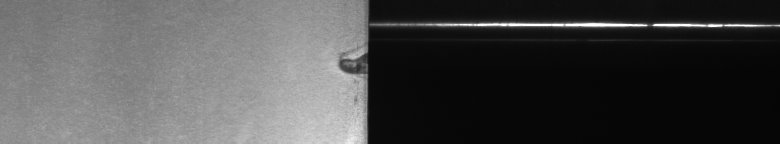hb: (330, 47, 356, 105)
